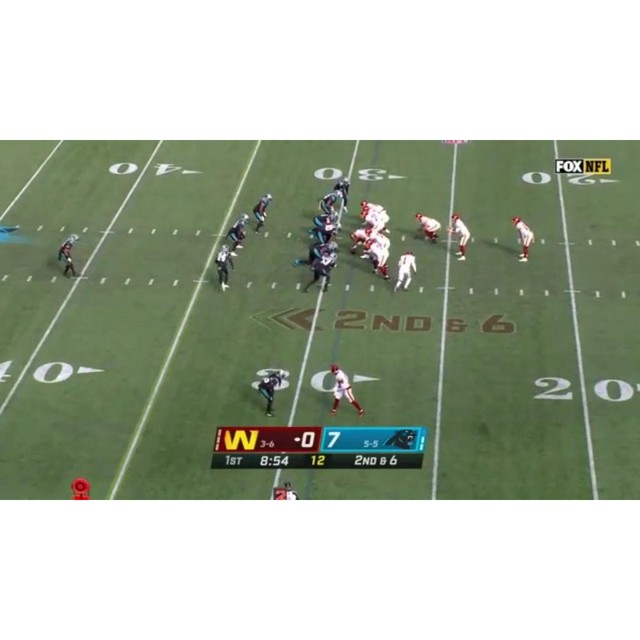american-football-player: (328, 363, 365, 418), (254, 369, 289, 417), (302, 255, 338, 294), (362, 239, 390, 281), (448, 213, 472, 260), (511, 215, 535, 262), (393, 250, 417, 292), (225, 214, 250, 252), (58, 234, 80, 277), (214, 245, 234, 292), (252, 193, 273, 236), (415, 211, 441, 243), (311, 210, 341, 232), (348, 228, 372, 255), (332, 178, 351, 211), (319, 190, 343, 215)
